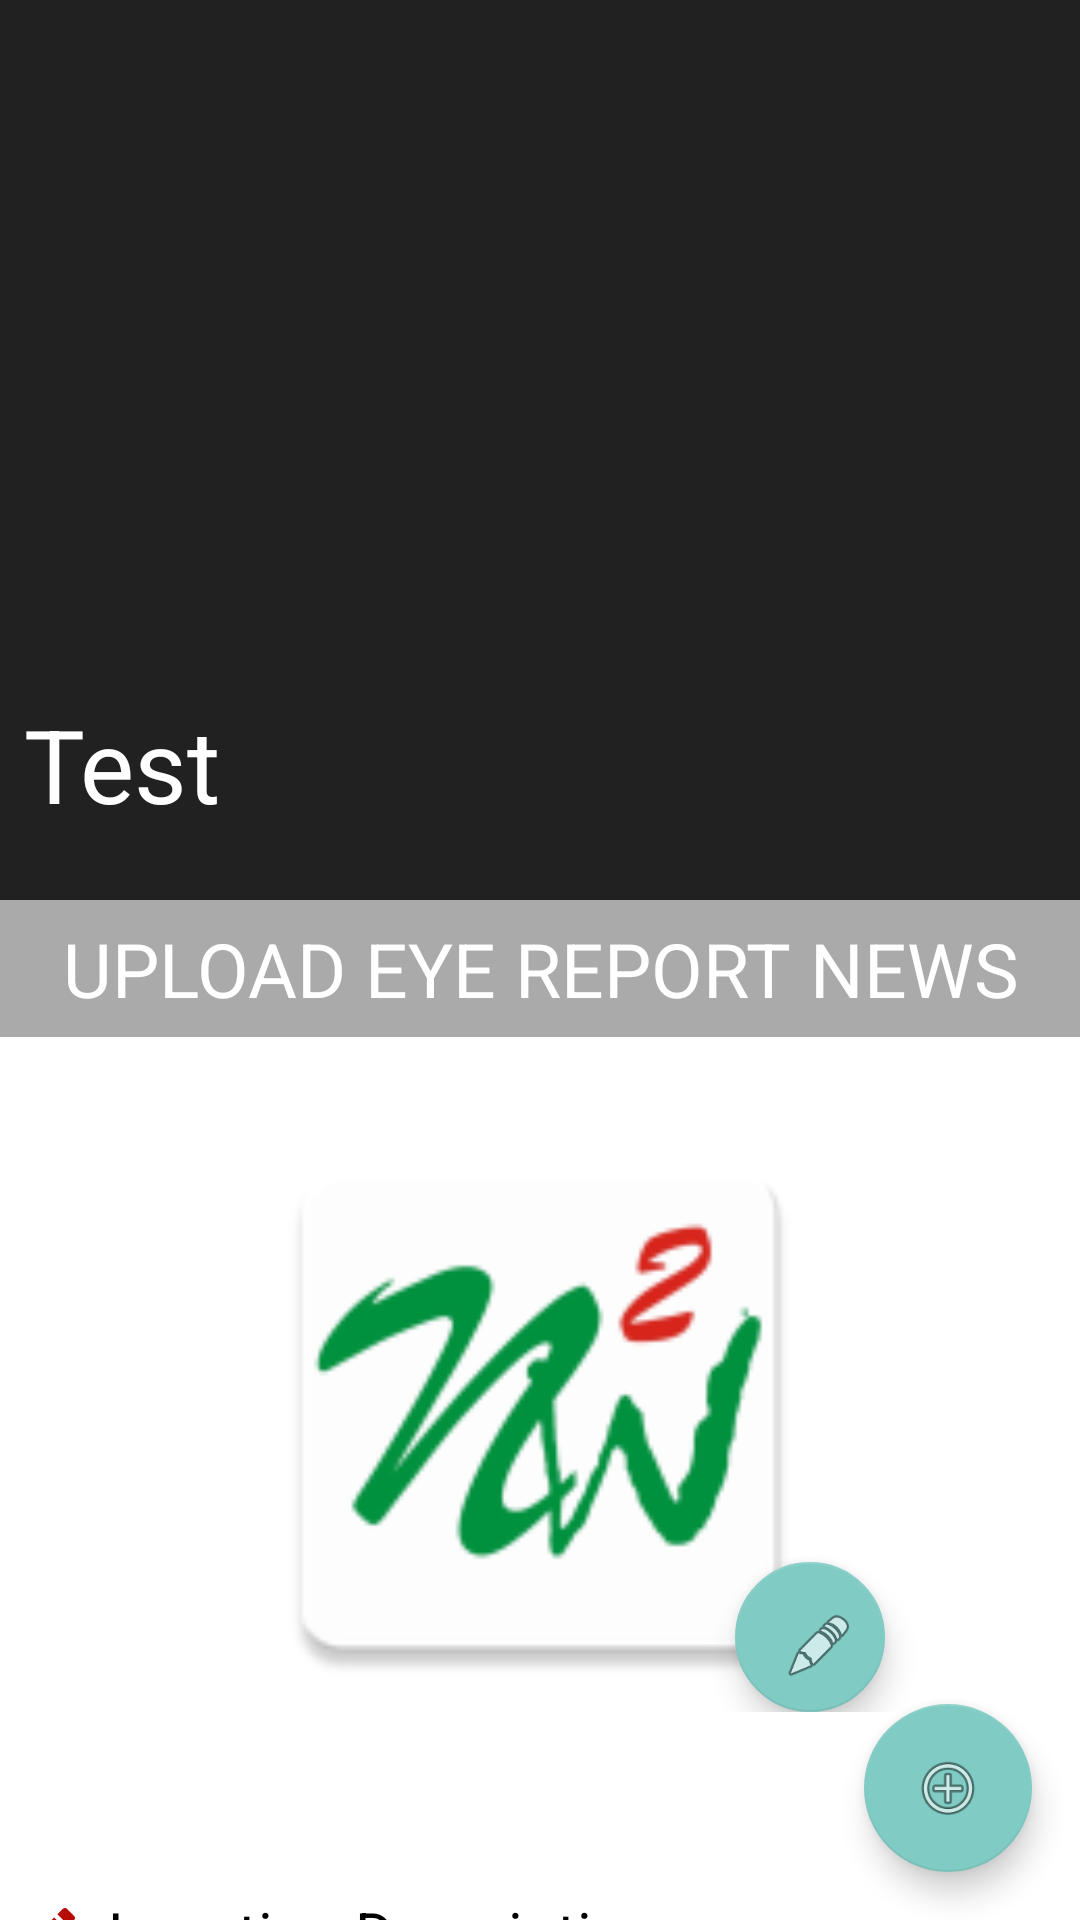

Screen size 1080*1920. Icon name, then its center in pixels as (x=x, y=y):
add: (x=948, y=1788)
edit: (x=810, y=1637)
